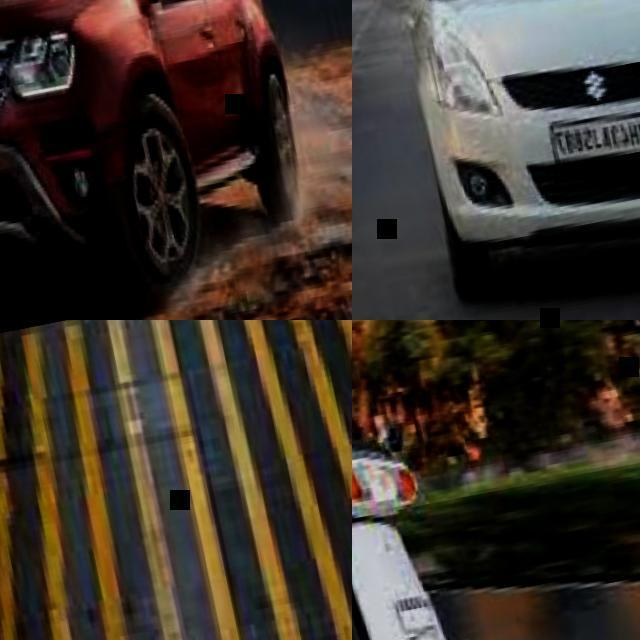car: (0, 0, 297, 283), (418, 0, 639, 301)
